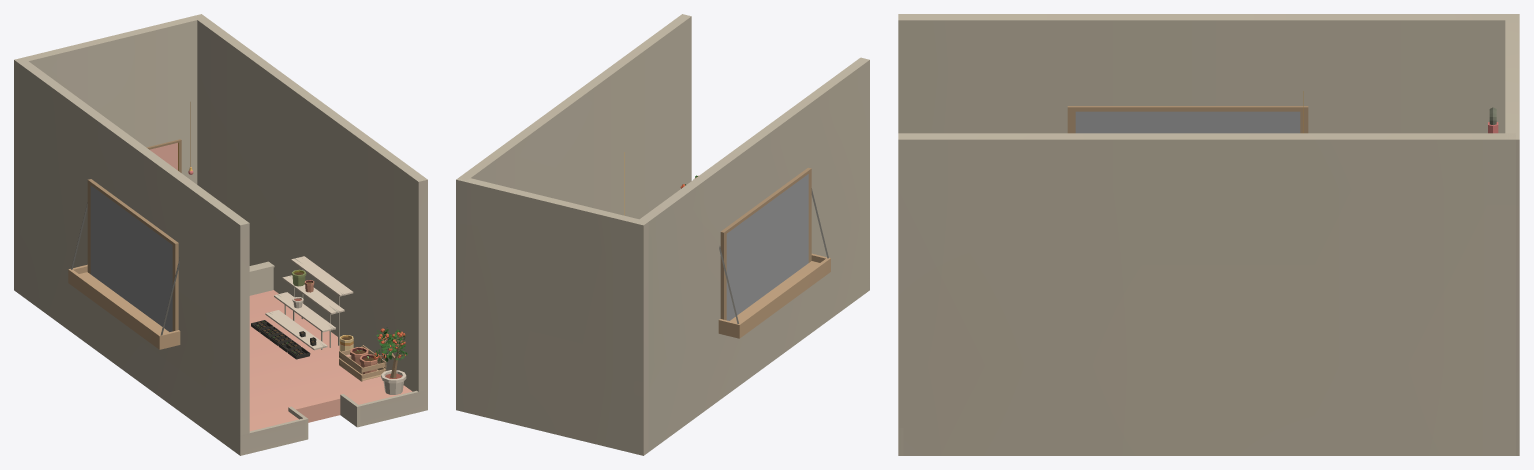
The model's file is flowershop_inside.fbx.
The picture shows the model from 3 angles, left to right: view 1: azimuth 30°, elevation 25°; view 2: azimuth 150°, elevation 25°; view 3: azimuth 270°, elevation 25°; orthographic projection. The views are drawn at different scales.
Parts seen in each view (by area): view 1: polySurface1830, polySurface1828, polySurface1835, polySurface1827, polySurface2088, polySurface2087, polySurface1831, polySurface1834, polySurface1845, polySurface2079, pCube261, pCube274 (+6 smaller); view 2: polySurface1835, polySurface1828, polySurface1830, polySurface2088, polySurface2087; view 3: polySurface1830, polySurface1828, polySurface2088, polySurface1835.
Part boxes in pixels (box(x1,y1,x2,y2)): polySurface1830: box(194, 15, 427, 410); polySurface1828: box(15, 59, 249, 455); polySurface1835: box(14, 14, 206, 293); polySurface1827: box(249, 290, 412, 431); polySurface2088: box(87, 179, 178, 331); polySurface2087: box(68, 264, 180, 349); polySurface1831: box(359, 390, 427, 426); polySurface1834: box(238, 418, 305, 455); polySurface1845: box(373, 327, 407, 378); polySurface2079: box(339, 345, 386, 381); pCube261: box(291, 256, 353, 296); pCube274: box(249, 261, 274, 295); polySurface1835: box(456, 176, 648, 455); polySurface1828: box(636, 57, 869, 451); polySurface1830: box(458, 14, 691, 219); polySurface2088: box(720, 167, 811, 320); polySurface2087: box(718, 253, 830, 338); polySurface1830: box(898, 133, 1515, 455); polySurface1828: box(898, 14, 1515, 133); polySurface2088: box(1067, 106, 1308, 133); polySurface1835: box(1505, 14, 1519, 455).
Bounding box in the file's own units: 38.62 × 40.81 × 72.62.
Materials: 15 (13 with a texture image).
